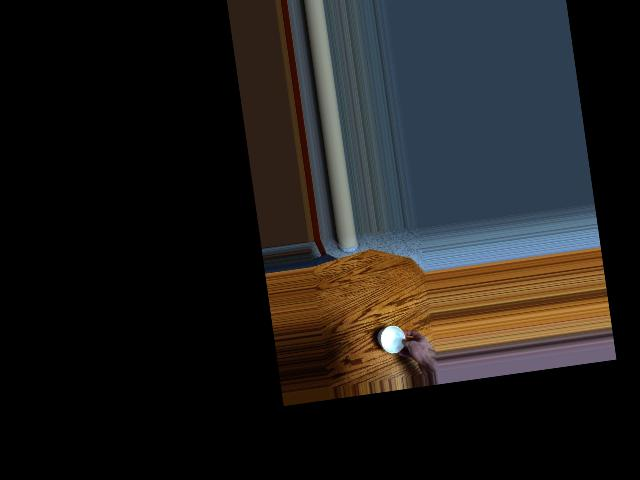cotage: (373, 319, 408, 355)
